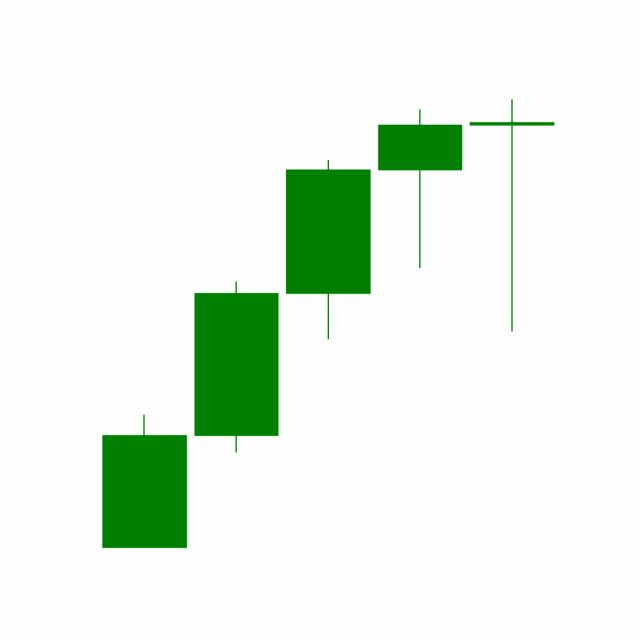Hanging Man: (373, 107, 467, 271)
